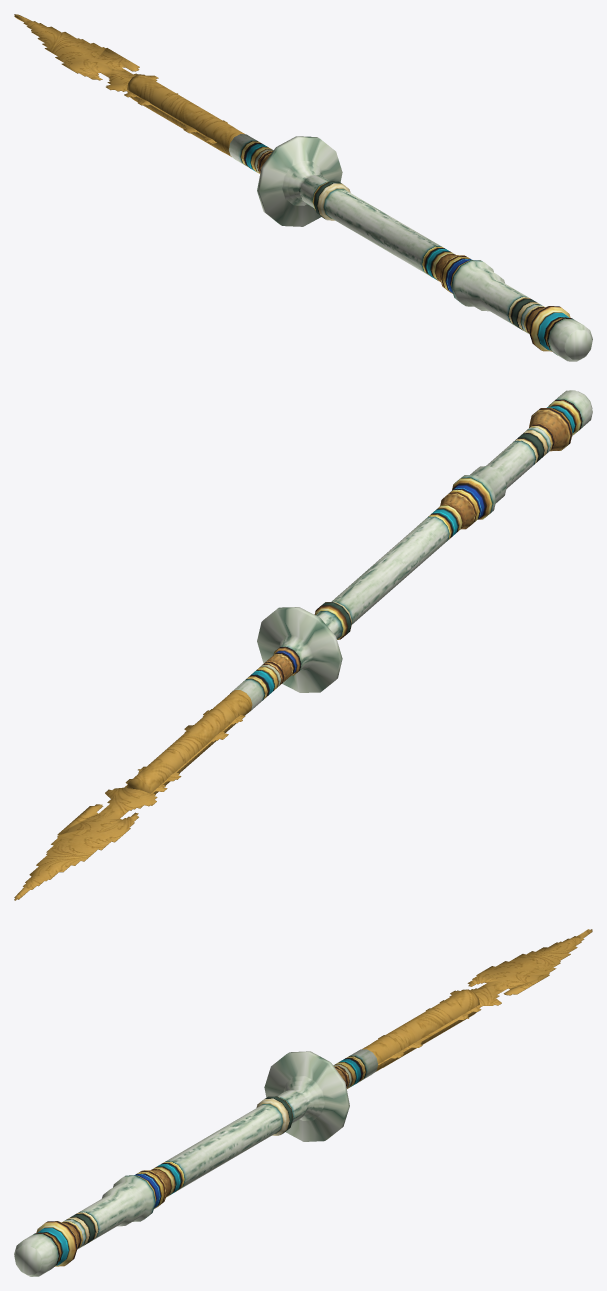
The model's file is item_item043.glb.
3 renders of one model, top to bottom at view 1: azimuth 30°, elevation 25°; view 2: azimuth 150°, elevation 25°; view 3: azimuth 330°, elevation 25°, orthographic.
Visible parts, largest first — view 1: pole_item043; view 2: pole_item043; view 3: pole_item043.
Boxes of the visible parts, x1,y1,x2,y2 form: pole_item043: (14, 14, 592, 361); pole_item043: (14, 390, 592, 900); pole_item043: (14, 929, 592, 1276).
Bounding box in the file's own units: 0.1684 × 0.198 × 1.99.
1 material, 1 textured.
